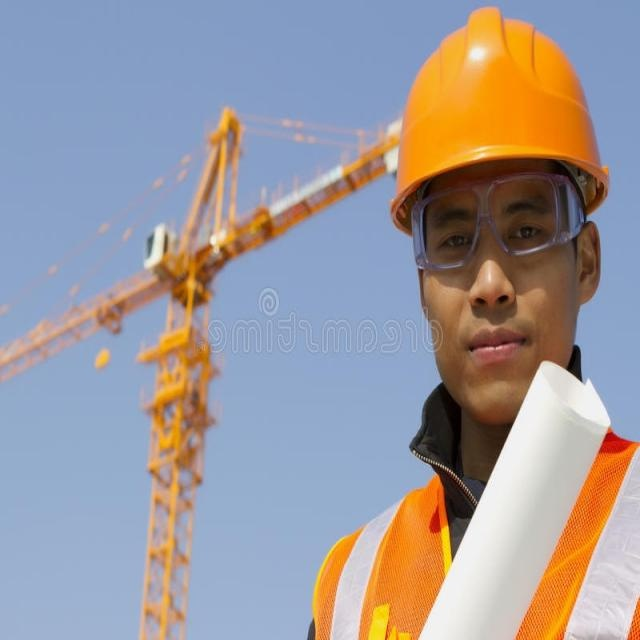Con_Casco: (389, 9, 603, 391)
